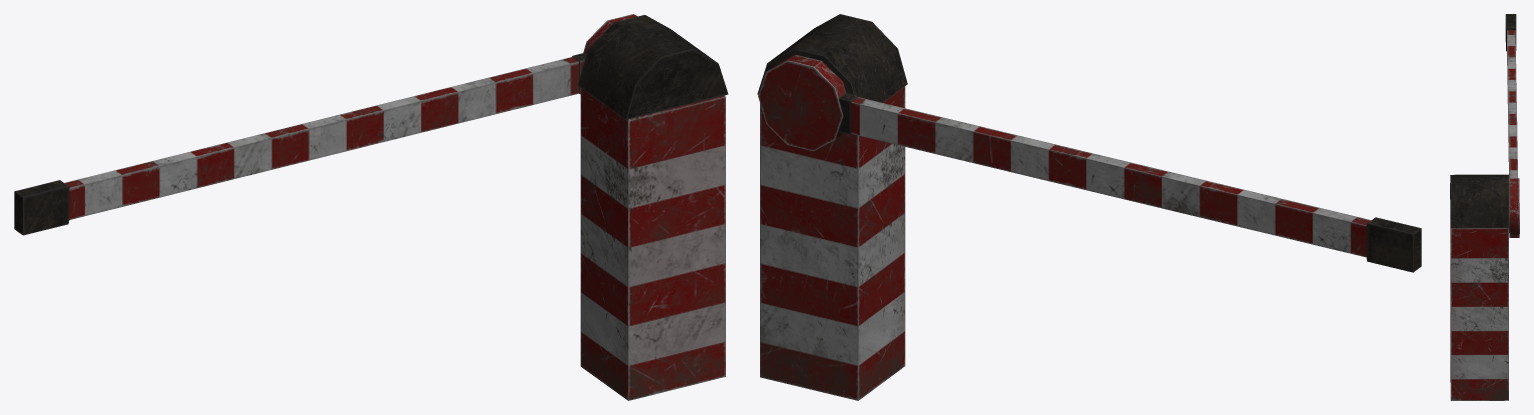
File: barrier_low.glb
The picture shows the model from 3 angles, left to right: view 1: azimuth 30°, elevation 25°; view 2: azimuth 150°, elevation 25°; view 3: azimuth 270°, elevation 25°; orthographic projection. The views are drawn at different scales.
Parts seen in each view (by area): view 1: barrier_low; view 2: barrier_low; view 3: barrier_low.
Part boxes in pixels (left/top/right/bottom): barrier_low: left=14, top=14, right=728, bottom=400; barrier_low: left=757, top=14, right=1421, bottom=400; barrier_low: left=1450, top=14, right=1519, bottom=400.
Bounding box in the file's own units: 2.9 × 1.41 × 0.4304.
1 material, 1 textured.
